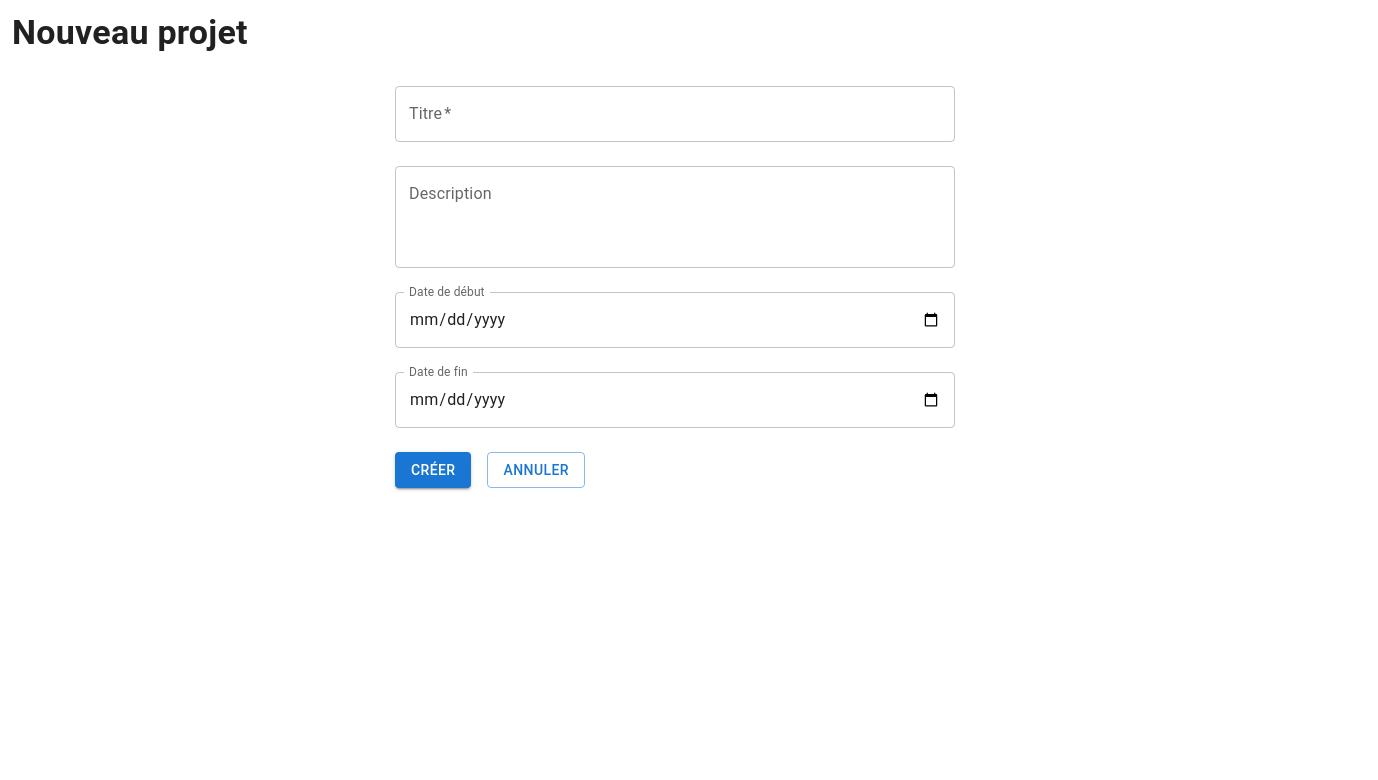
Test: ProjectCreatePage › should display an error when the API fails
The image size is (1378, 780).
Type "Mon projet" into the field labelled "Titre *" at (675, 114), box x1=395 y1=86 x2=955 y2=142
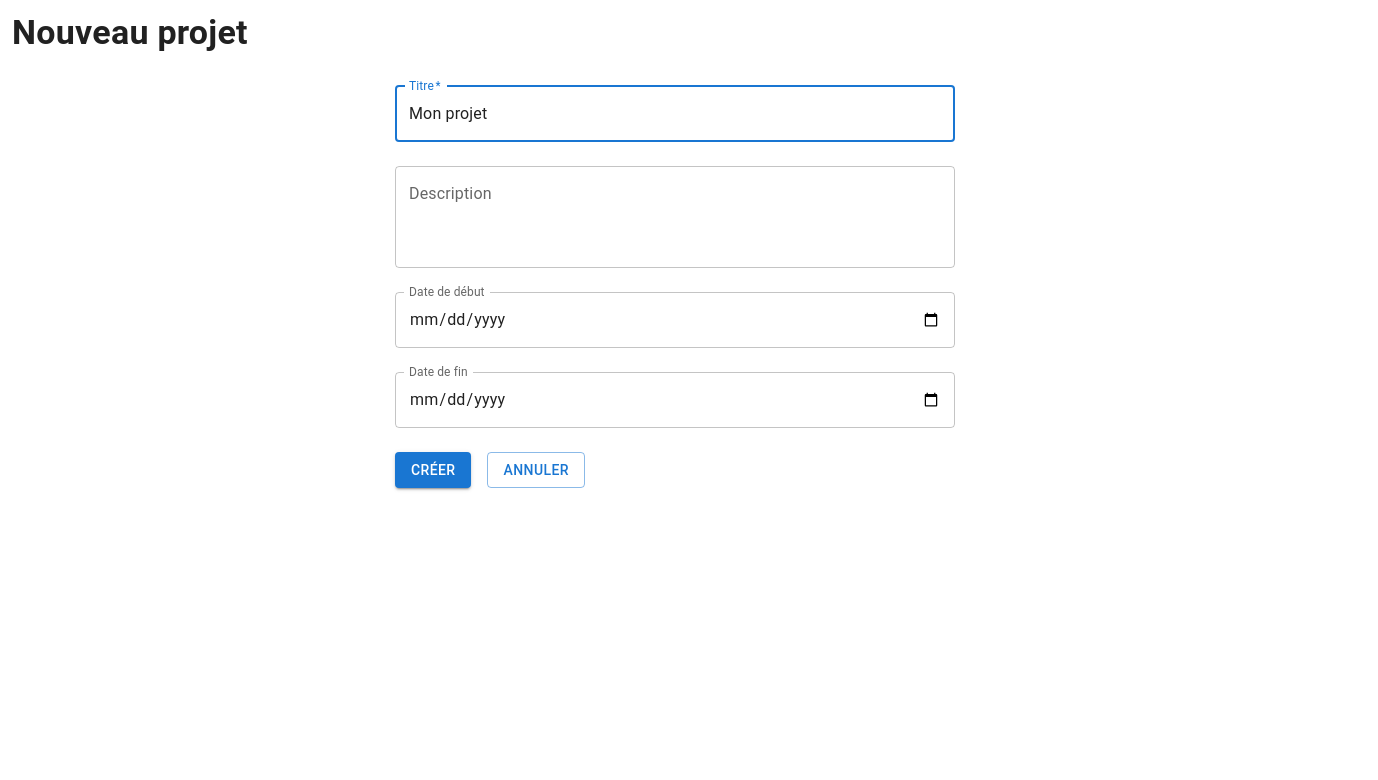
Click the button "Créer" at (433, 470), box x1=395 y1=452 x2=472 y2=488
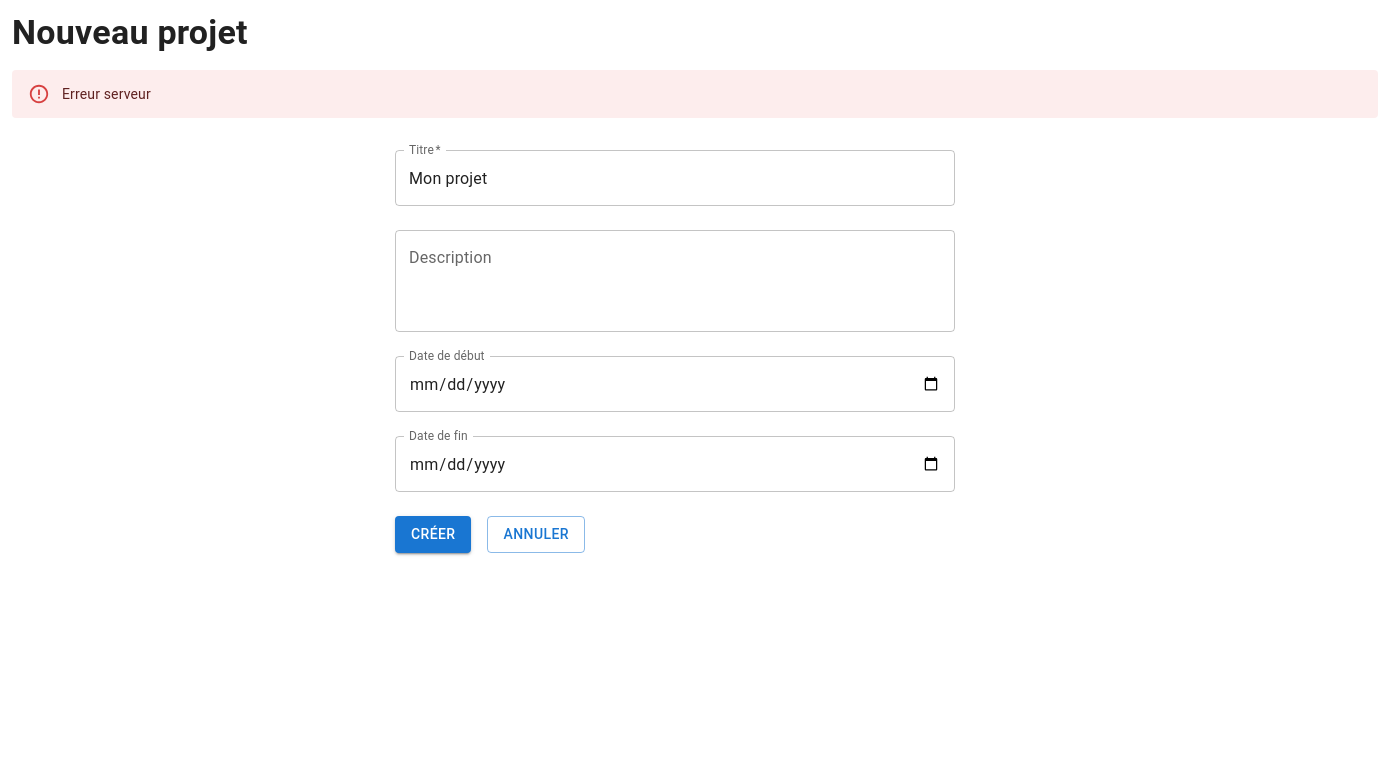
expect the text "Erreur serveur" is shown: met, box x1=62 y1=86 x2=151 y2=102
